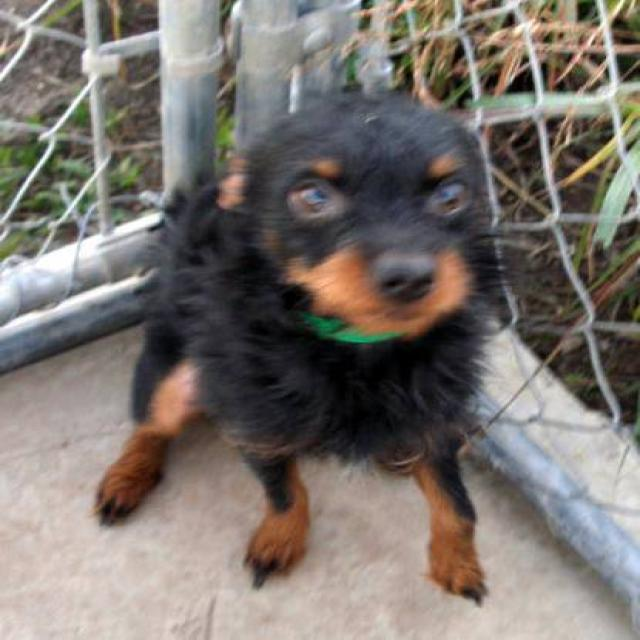Dog: (251, 101, 485, 341)
